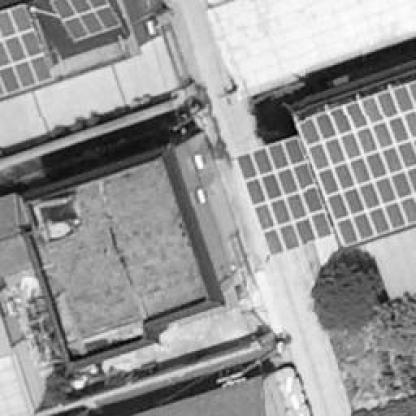solar-pv-panel: (295, 81, 416, 246), (235, 135, 334, 258), (0, 4, 53, 97), (50, 0, 121, 42)
